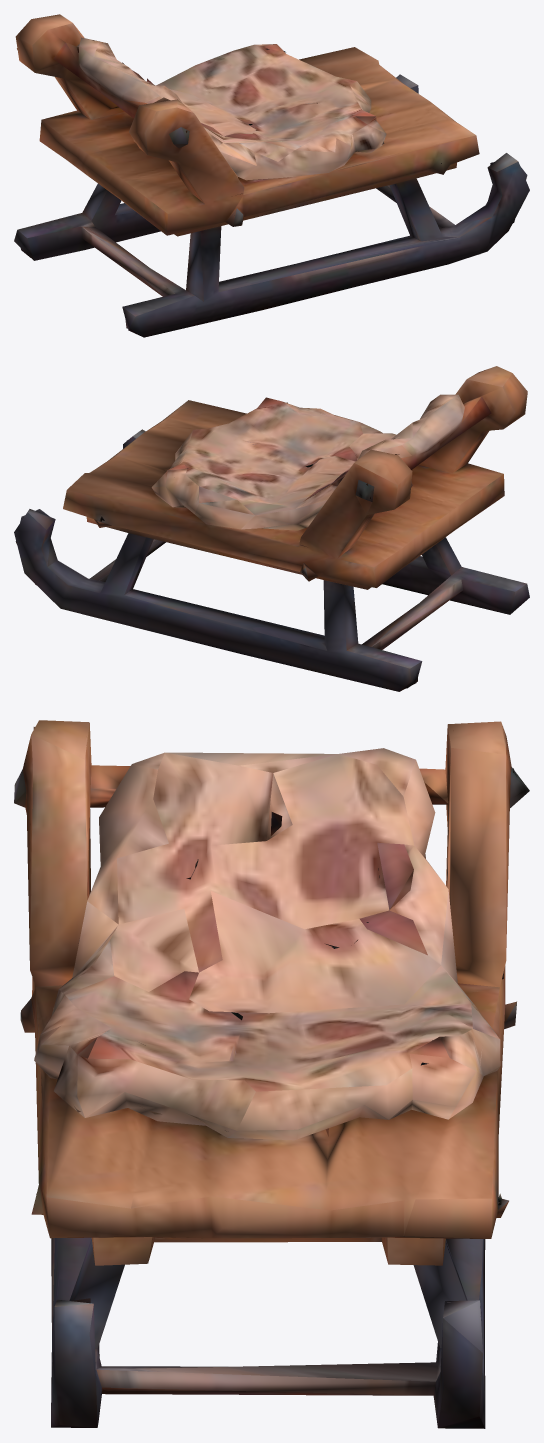
Rendered from lg-snow-sled.glb.
3 renders of one model, top to bottom at view 1: azimuth 30°, elevation 25°; view 2: azimuth 150°, elevation 25°; view 3: azimuth 270°, elevation 25°, orthographic. The views are drawn at different scales.
Visible parts, largest first — view 1: geometry_0; view 2: geometry_0; view 3: geometry_0.
Boxes of the visible parts, x1,y1,x2,y2 form: geometry_0: (14, 14, 529, 337); geometry_0: (14, 366, 529, 691); geometry_0: (14, 720, 529, 1428).
Size of the model in its own units: 1 by 0.5497 by 0.6111.
1 material, 1 textured.
